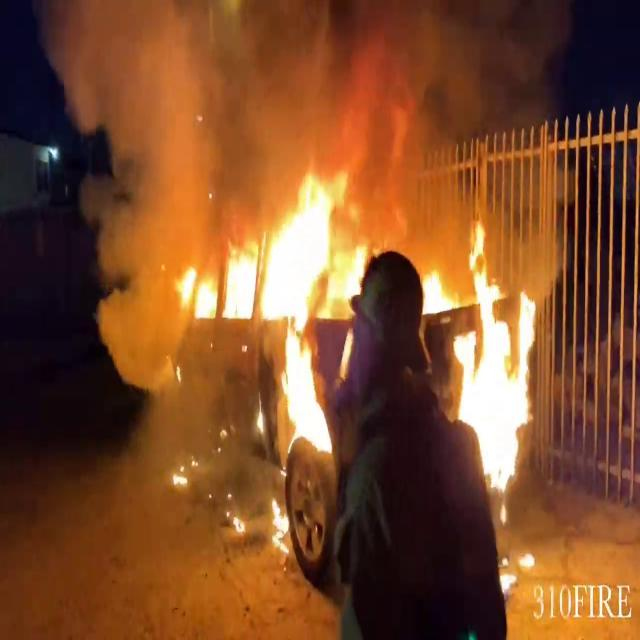Fire: (164, 163, 356, 533), (450, 215, 540, 488)
Smoke: (47, 0, 550, 236)
